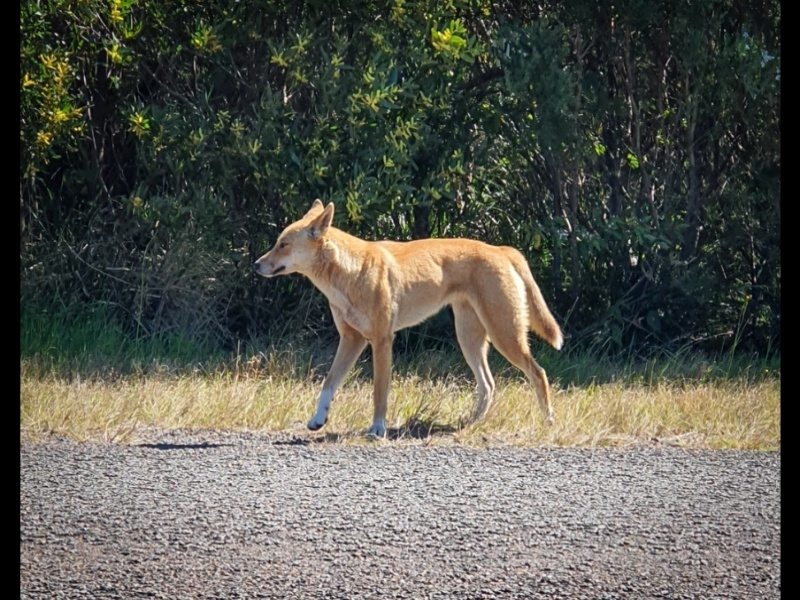dog: (250, 195, 576, 441)
